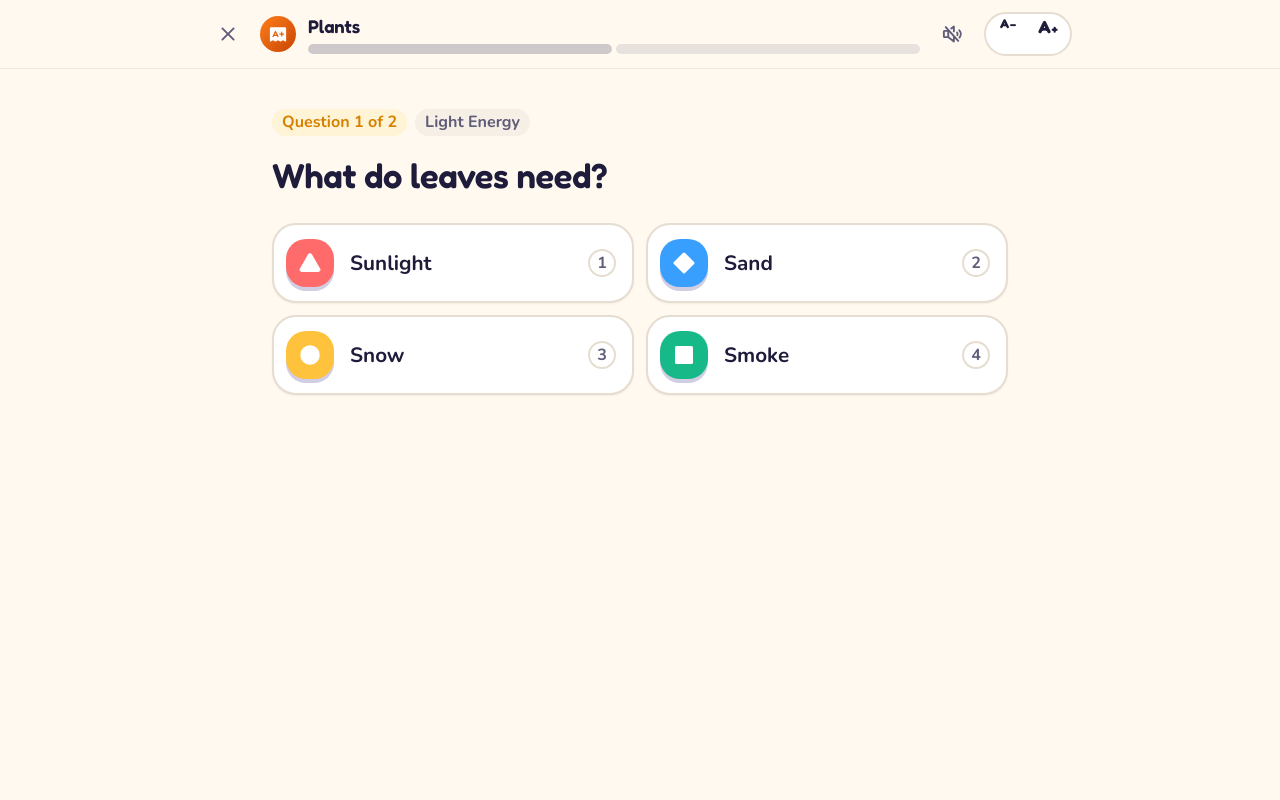
Test case: QuizPlayer › shows the right answer after a wrong one
This screenshot has width=1280, height=800.
Step 1. Click the button "Snow 3" → click(310, 355), box 272,315 -> 634,395
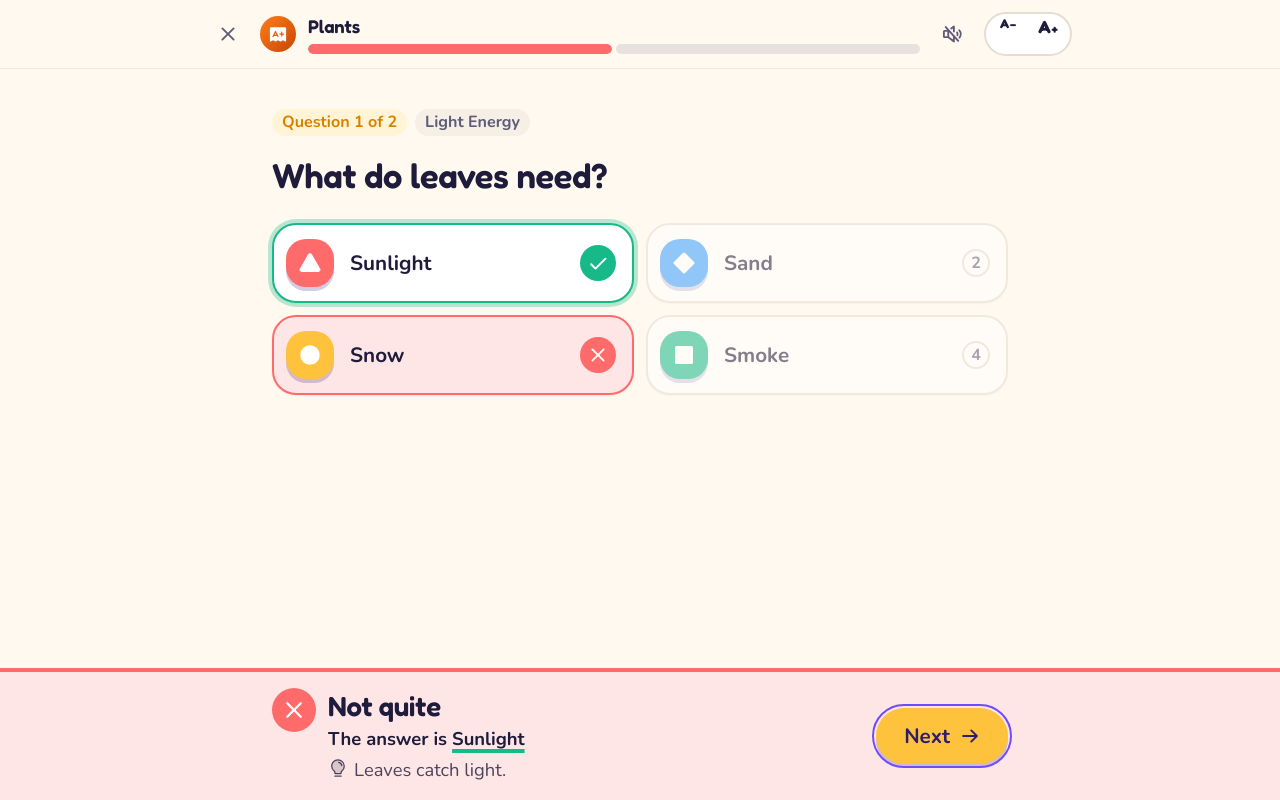
expect the text "Not quite" is shown: met, box 328,689 -> 441,723
expect the text "Sunlight" next to "The answer is" is shown: met, box 452,726 -> 525,751
